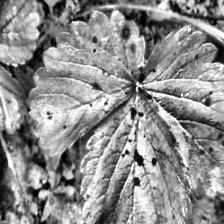Leaf Spot: (25, 8, 146, 157), (77, 89, 192, 224), (138, 24, 224, 198)
